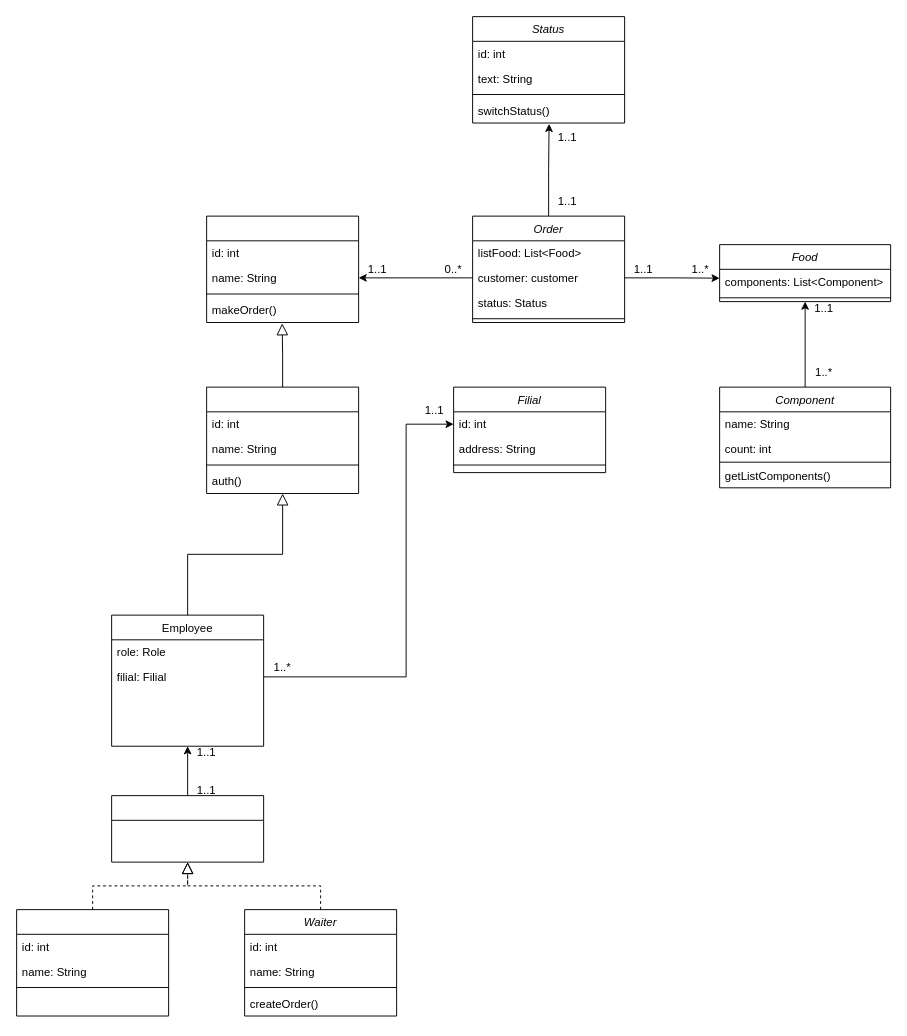
The diagram is 907 pixels wide and 1036 high, and some of its shapes have lost their labels. Each missing label, with the box of its shape:
Administrator: (16, 909, 169, 1016)
Customer: (206, 215, 359, 323)
Person: (206, 386, 359, 494)
Role (Interface): (111, 795, 264, 862)
